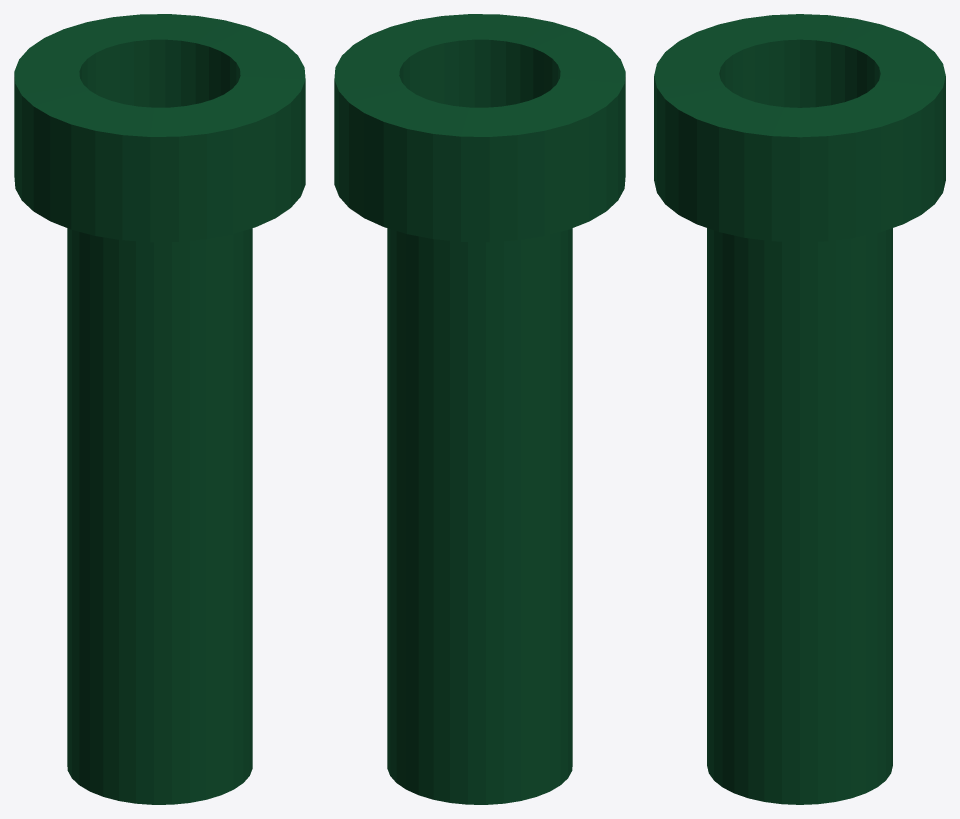
Rendered from pipe.fbx.
3 renders of one model, left to right at view 1: azimuth 30°, elevation 25°; view 2: azimuth 150°, elevation 25°; view 3: azimuth 270°, elevation 25°, orthographic.
Visible parts, largest first — view 1: Circle; view 2: Circle; view 3: Circle.
Boxes of the visible parts, x1=… form: Circle: x1=14, y1=14, x2=305, y2=804; Circle: x1=334, y1=14, x2=625, y2=804; Circle: x1=654, y1=14, x2=945, y2=804.
Bounding box in the file's own units: 314 × 821 × 314.
